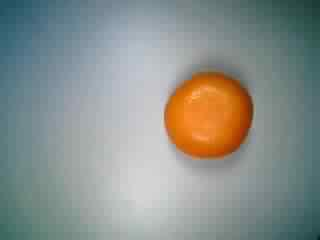orange: (161, 68, 256, 162)
